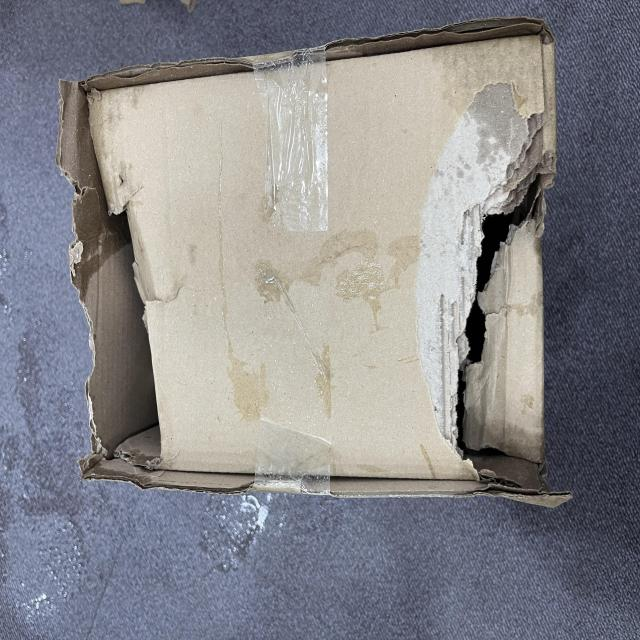damaged: (129, 96, 411, 220), (105, 585, 386, 640)
